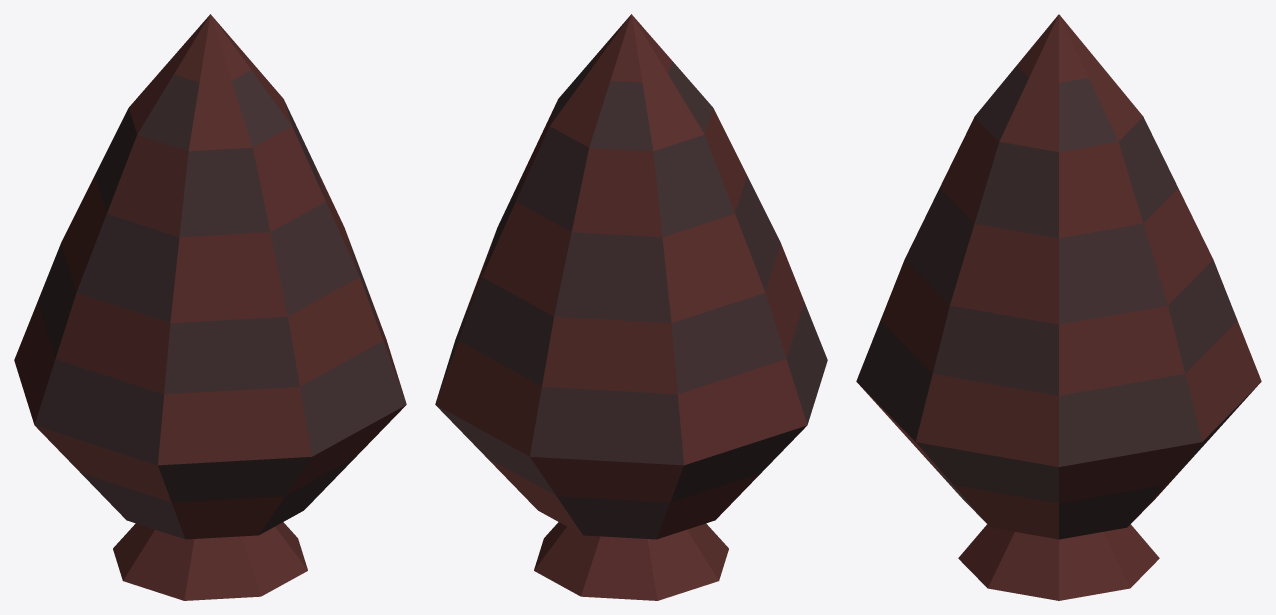
The model's file is winter_flora_3.fbx.
The picture shows the model from 3 angles, left to right: view 1: azimuth 30°, elevation 25°; view 2: azimuth 150°, elevation 25°; view 3: azimuth 270°, elevation 25°; orthographic projection.
Visible parts, largest first — view 1: winter_flora_3; view 2: winter_flora_3; view 3: winter_flora_3.
Part boxes in pixels (bbox=[...]): winter_flora_3: bbox=[14, 14, 406, 600]; winter_flora_3: bbox=[435, 14, 827, 600]; winter_flora_3: bbox=[856, 14, 1261, 600].
Size of the model in its own units: 107 by 158 by 107.
